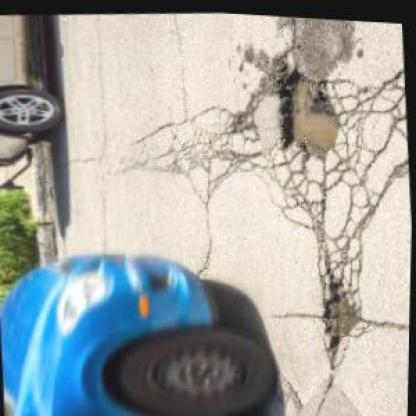pothole: (260, 61, 342, 159), (318, 269, 366, 343)
